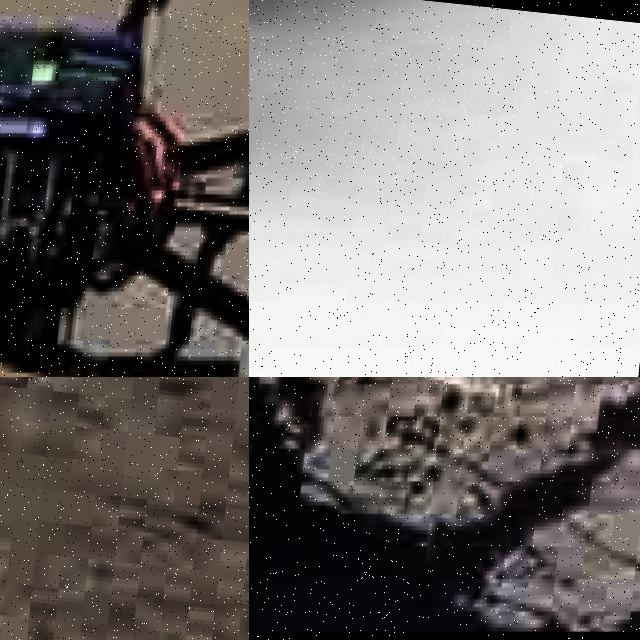0: (249, 377, 640, 640), (0, 0, 249, 377)
drone: (249, 0, 640, 377)
